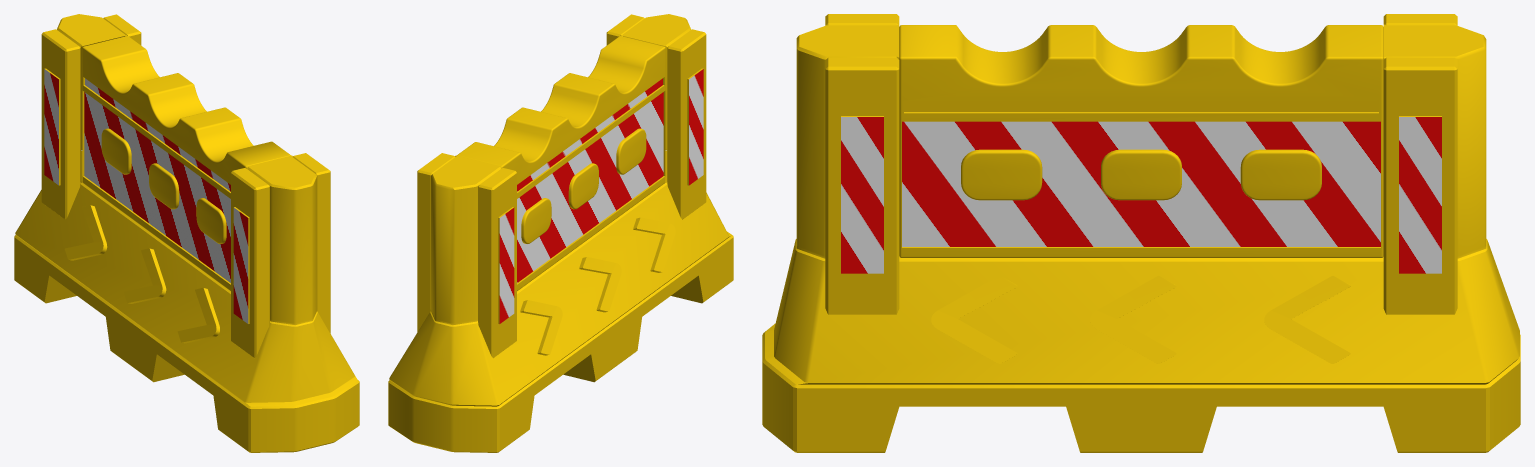
File: water_shuima.FBX
The picture shows the model from 3 angles, left to right: view 1: azimuth 30°, elevation 25°; view 2: azimuth 150°, elevation 25°; view 3: azimuth 270°, elevation 25°; orthographic projection. The views are drawn at different scales.
Visible parts, largest first — view 1: Water horse enclosure; view 2: Water horse enclosure; view 3: Water horse enclosure.
Boxes of the visible parts, x1=… form: Water horse enclosure: x1=14, y1=14, x2=359, y2=452; Water horse enclosure: x1=388, y1=14, x2=733, y2=452; Water horse enclosure: x1=762, y1=14, x2=1520, y2=452.
Size of the model in its own units: 0.35 by 0.76 by 1.4.
Materials: 2 (1 with a texture image).
